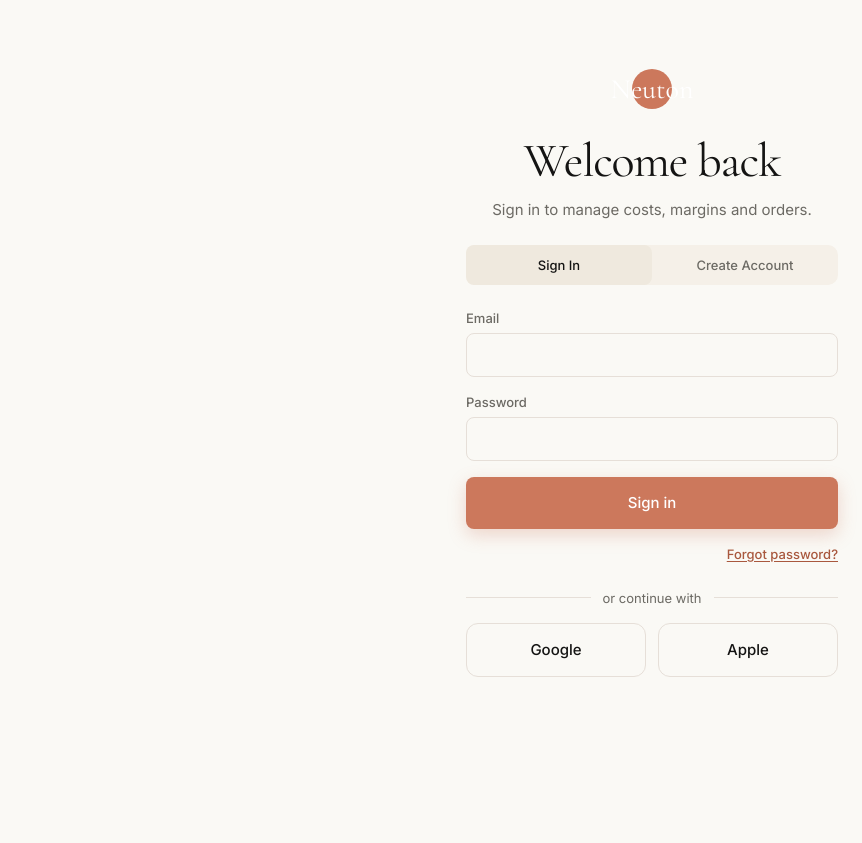
it: AuthPage sign in › surfaces a rejected sign-in as an alert and stays put
The width and height of the screenshot is (862, 843).
Type "testtest@gmail.com" into the field labelled "Email". click: [652, 355]
box: [466,333,838,377]
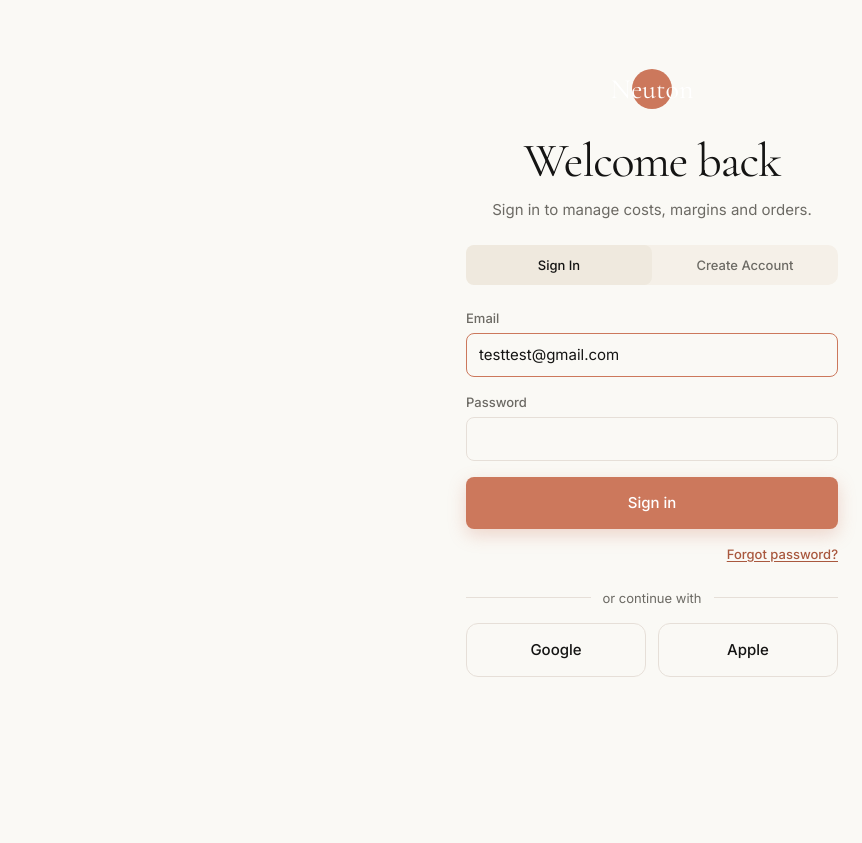
Type "wrongpass" into the password field labelled "Password". click: [652, 439]
box: [466,417,838,461]
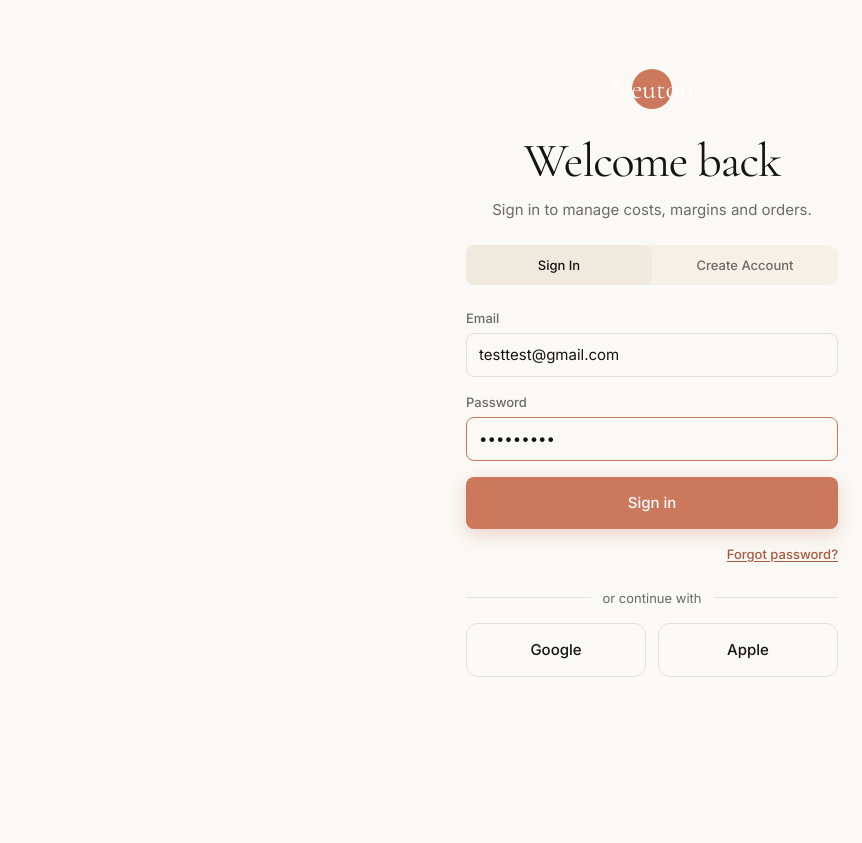
Click the button "Sign in". click: [652, 503]
box: [466,477,838,529]
(page scrolled)
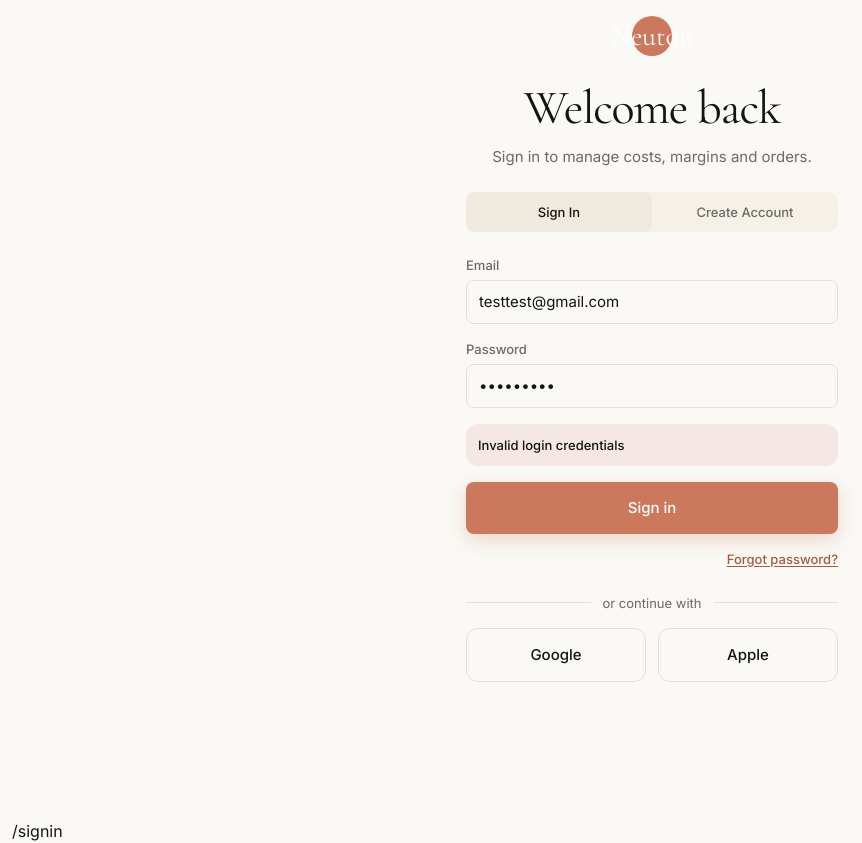
Expected: the text with test id "where" reads "/signin", [12,821,63,841]
Result: the message reads "Invalid login credentials" at [478,437,624,453]
